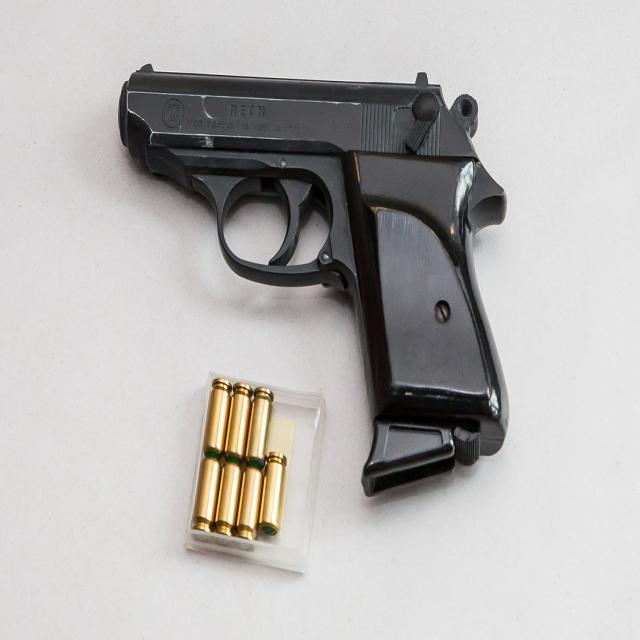Gun: (119, 68, 508, 495)
